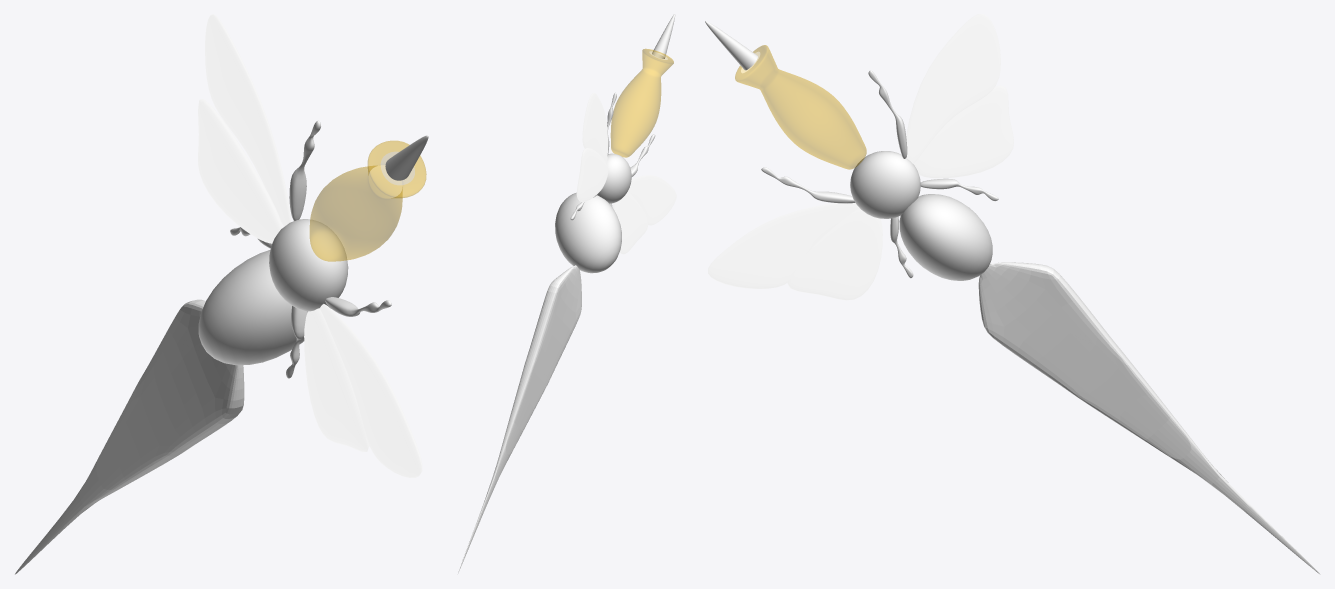
File: WingedSword.glb
3 views of the same model, side by side, from view 1: azimuth 30°, elevation 25°; view 2: azimuth 150°, elevation 25°; view 3: azimuth 270°, elevation 25° (orthographic). The views are drawn at different scales.
Visible parts, largest first — view 1: blade, hilt, Sphere.001, Wing TR.001, Wing TR, Wing BR.002, Sphere, Wing BR.001, Cube.002, hilt stinger, Cube.001, Cube.003; view 2: blade, Sphere.001, hilt, Wing TR, Wing BR.001, Wing TR.001, Wing BR.002, Sphere, hilt stinger; view 3: blade, Wing TR.001, hilt, Wing TR, Sphere.001, Wing BR.002, Wing BR.001, Sphere, hilt stinger.
Boxes of the visible parts, left/top/right/bottom form: blade: left=15, top=299, right=244, bottom=574; hilt: left=310, top=141, right=426, bottom=261; Sphere.001: left=198, top=249, right=330, bottom=365; Wing TR.001: left=205, top=14, right=291, bottom=226; Wing TR: left=319, top=304, right=422, bottom=477; Wing BR.002: left=198, top=99, right=282, bottom=243; Sphere: left=269, top=219, right=348, bottom=311; Wing BR.001: left=304, top=308, right=369, bottom=451; Cube.002: left=289, top=120, right=320, bottom=220; hilt stinger: left=385, top=135, right=428, bottom=180; Cube.001: left=286, top=306, right=307, bottom=378; Cube.003: left=325, top=297, right=391, bottom=316; blade: left=458, top=265, right=581, bottom=573; Sphere.001: left=555, top=192, right=621, bottom=273; hilt: left=611, top=49, right=673, bottom=157; Wing TR: left=628, top=175, right=676, bottom=225; Wing BR.001: left=613, top=192, right=647, bottom=254; Wing TR.001: left=582, top=93, right=607, bottom=164; Wing BR.002: left=576, top=148, right=608, bottom=201; Sphere: left=597, top=153, right=631, bottom=203; hilt stinger: left=652, top=14, right=675, bottom=58; blade: left=978, top=262, right=1320, bottom=574; Wing TR.001: left=906, top=14, right=1000, bottom=163; hilt: left=735, top=45, right=866, bottom=169; Wing TR: left=708, top=203, right=859, bottom=288; Sphere.001: left=899, top=194, right=992, bottom=280; Wing BR.002: left=913, top=85, right=1013, bottom=178; Wing BR.001: left=787, top=208, right=882, bottom=300; Sphere: left=850, top=151, right=920, bottom=218; hilt stinger: left=705, top=21, right=757, bottom=70.
Bounding box in the file's own units: 1.79 × 10.75 × 10.79.
